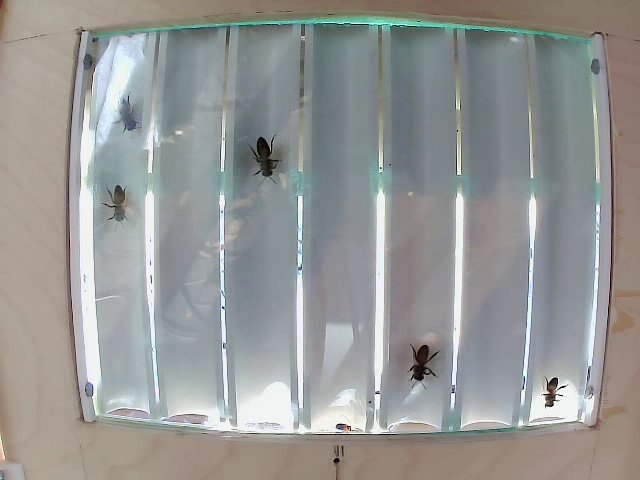bee: (535, 371, 574, 408), (254, 141, 279, 190), (108, 106, 141, 142), (105, 193, 136, 230), (411, 346, 437, 382)
